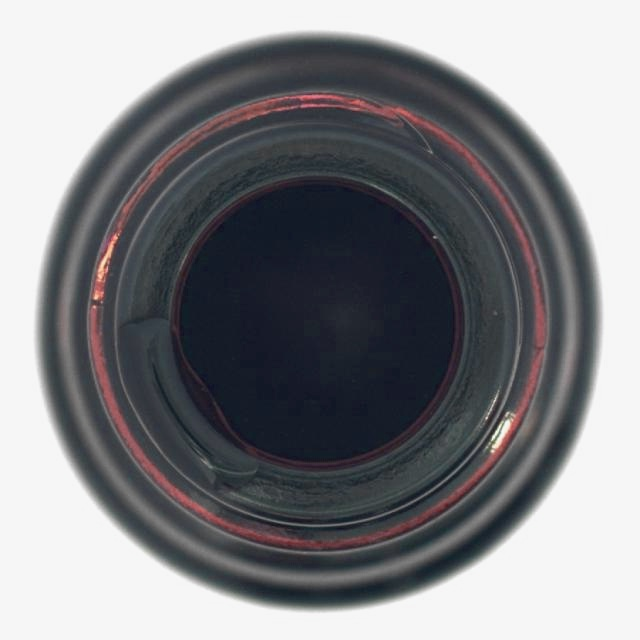bad-contamination: (35, 28, 605, 612)
